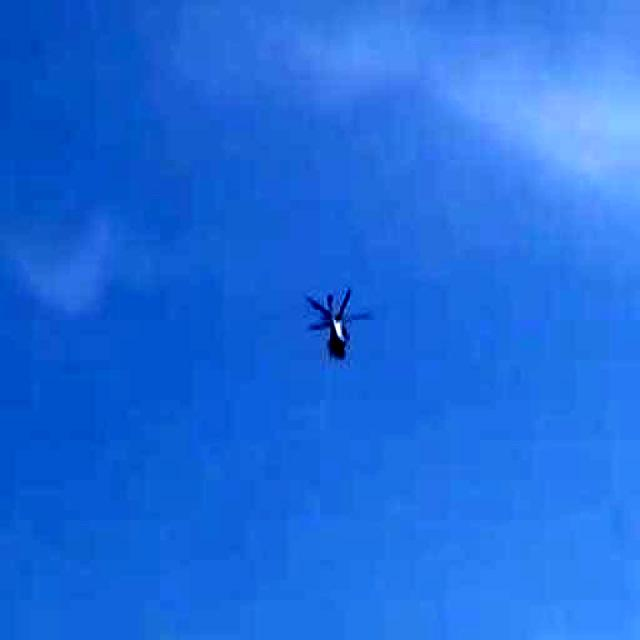drone: (269, 235, 405, 398)
